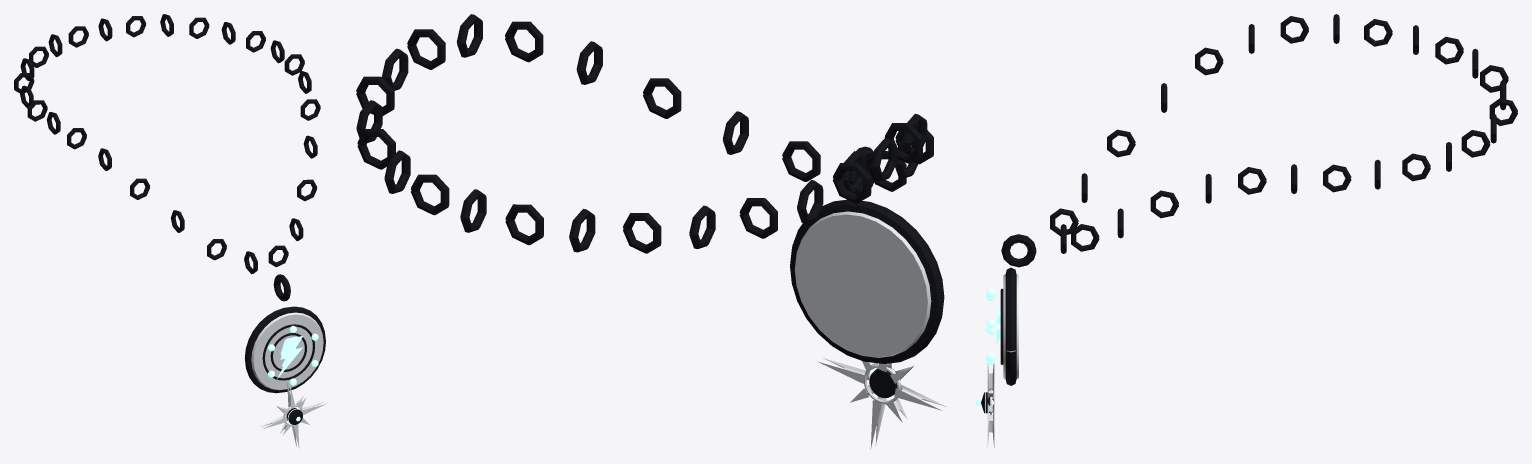
Rendered from esc_null_choir_accessory.glb.
3 views of the same model, side by side, from view 1: azimuth 30°, elevation 25°; view 2: azimuth 150°, elevation 25°; view 3: azimuth 270°, elevation 25° (orthographic). The views are drawn at different scales.
Parts seen in each view (by area): view 1: esc_null_choir_accessory; view 2: esc_null_choir_accessory; view 3: esc_null_choir_accessory.
Part boxes in pixels (left/top/right/bottom): esc_null_choir_accessory: left=14, top=14, right=326, bottom=448; esc_null_choir_accessory: left=356, top=14, right=946, bottom=449; esc_null_choir_accessory: left=976, top=14, right=1517, bottom=447.
Size of the model in its own units: 0.3419 by 0.3521 by 0.4845.
